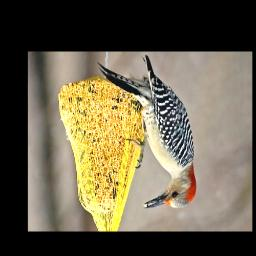Woodpecker: (93, 57, 211, 215)
